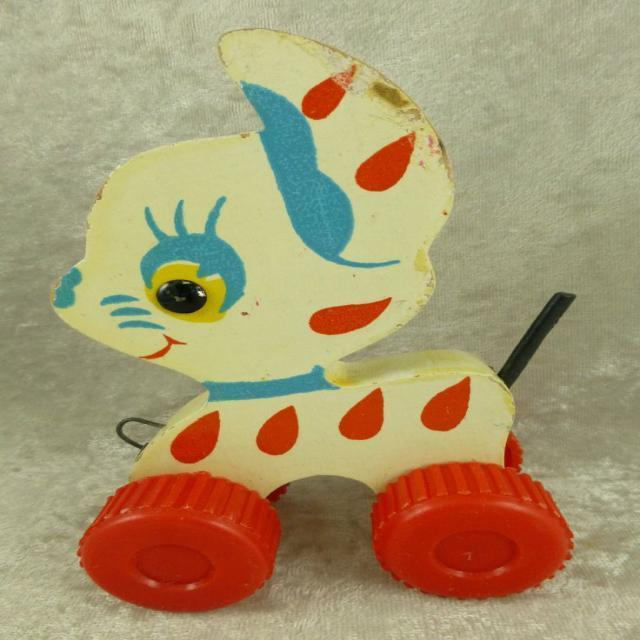hard-toy: (54, 31, 574, 612)
